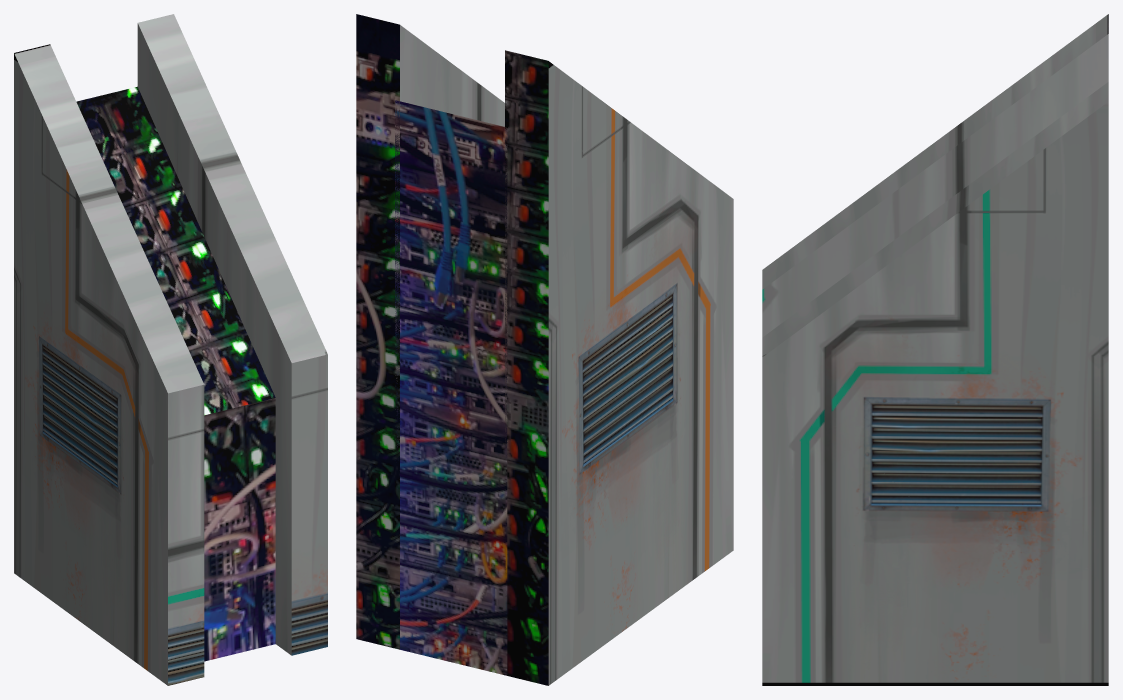
The model's file is BigServer.fbx.
3 views of the same model, side by side, from view 1: azimuth 30°, elevation 25°; view 2: azimuth 150°, elevation 25°; view 3: azimuth 270°, elevation 25° (orthographic). The views are drawn at different scales.
Parts seen in each view (by area): view 1: ServerTall; view 2: ServerTall; view 3: ServerTall.
Boxes of the visible parts, x1=… form: ServerTall: x1=14, y1=14, x2=327, y2=685; ServerTall: x1=356, y1=14, x2=733, y2=685; ServerTall: x1=762, y1=14, x2=1108, y2=685.
Size of the model in its own units: 0.3867 by 0.6451 by 1.2.
